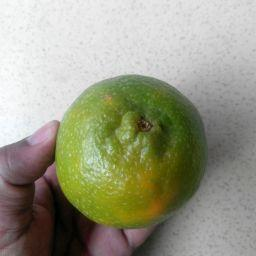Unripe: (54, 77, 206, 227)
